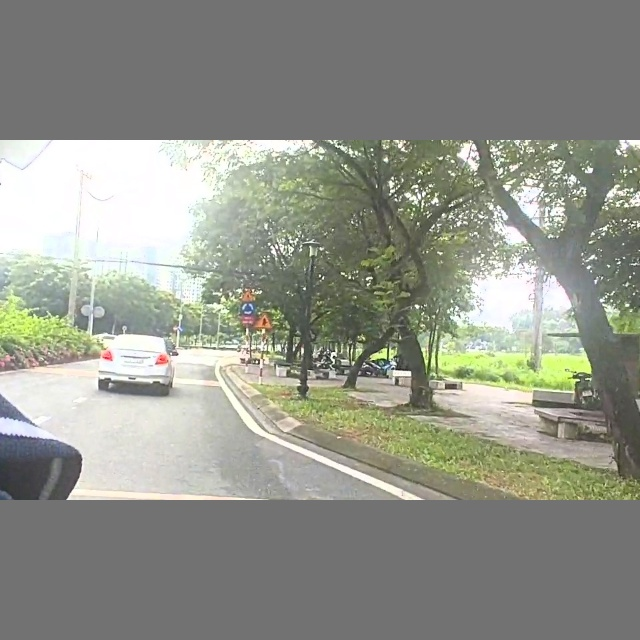P.102: (172, 325, 177, 332)
R.302a: (178, 327, 184, 333)
R.303: (241, 302, 256, 315)
W.207: (253, 313, 273, 329)
W.224: (241, 291, 256, 302)
